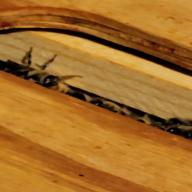Bee: (16, 62, 71, 102)
